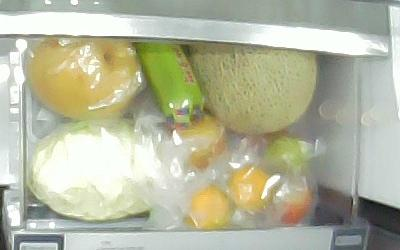cabbage_vinyl: (32, 122, 153, 222)
melon: (189, 42, 317, 134)
pear_vinyl: (27, 36, 141, 121)
prune_vinyl: (174, 113, 226, 168)
tangerine_vinyl: (228, 163, 273, 213), (184, 184, 232, 229)
tomato_vinyl: (262, 135, 305, 178), (271, 181, 311, 226)
zucchini: (134, 41, 207, 130)
